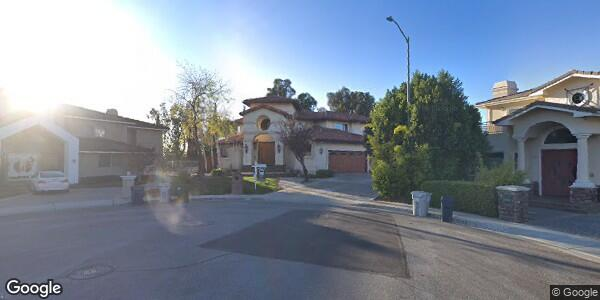Steel_Pole: (384, 14, 413, 105)
